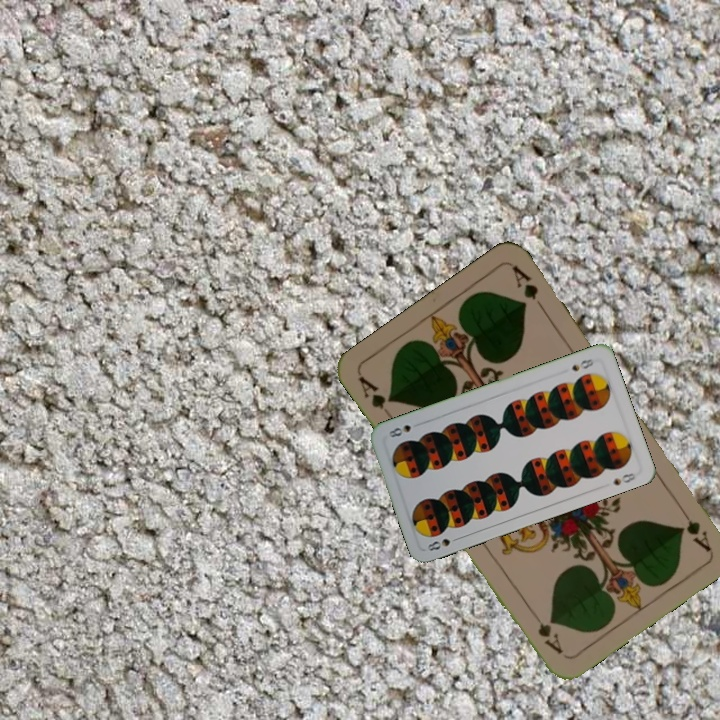GA: (354, 372, 397, 422), (674, 502, 714, 554)
S8: (423, 533, 463, 554), (567, 354, 597, 374)
